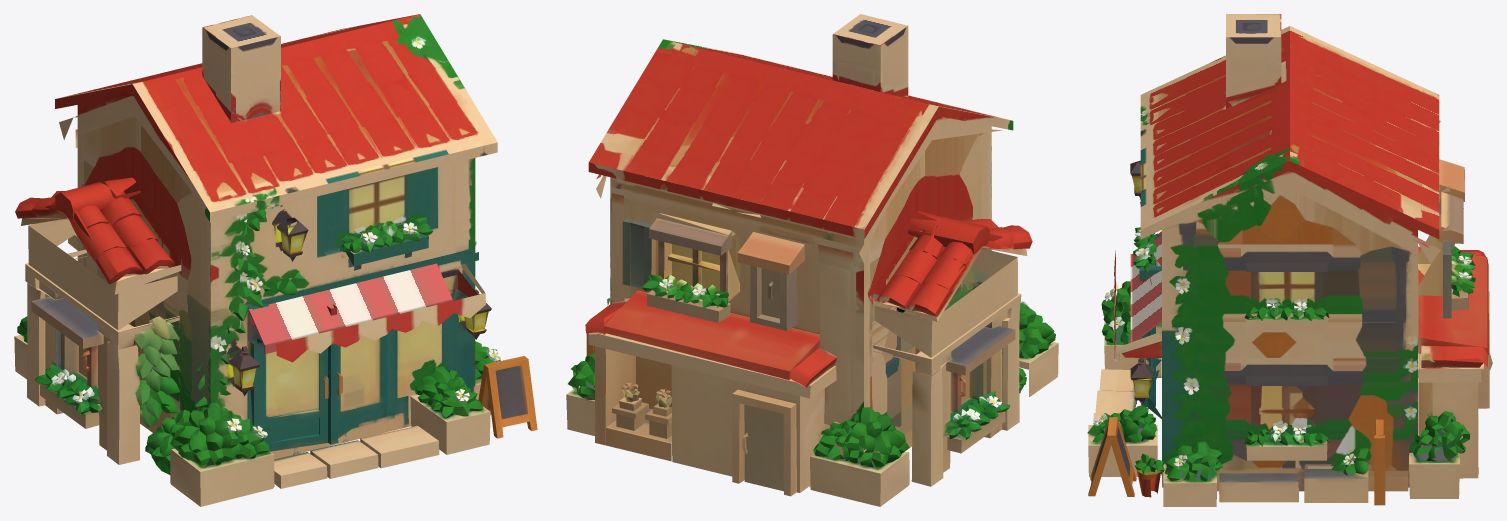
File: house_cute_r90.glb
The picture shows the model from 3 angles, left to right: view 1: azimuth 30°, elevation 25°; view 2: azimuth 150°, elevation 25°; view 3: azimuth 270°, elevation 25°; orthographic projection. The views are drawn at different scales.
Parts seen in each view (by area): view 1: shell, house_detail; view 2: house_detail, shell; view 3: shell, house_detail.
Boxes of the visible parts, left/top/right/bottom form: shell: left=55, top=14, right=497, bottom=459; house_detail: left=14, top=96, right=537, bottom=506; house_detail: left=566, top=125, right=1058, bottom=506; shell: left=588, top=14, right=1013, bottom=454; shell: left=1130, top=14, right=1439, bottom=487; house_detail: left=1087, top=120, right=1492, bottom=506.
Bounding box in the file's own units: 1 × 0.9712 × 0.9514.
Materials: 3 (3 with a texture image).
